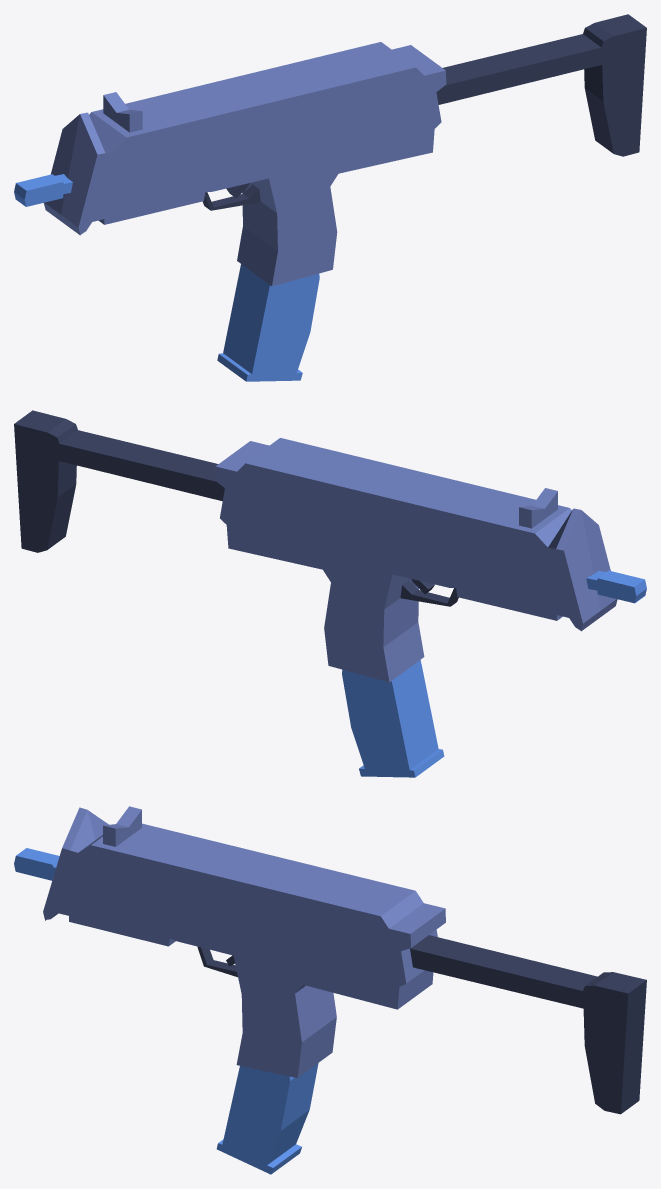
Rendered from fpsgun.fbx.
3 renders of one model, top to bottom at view 1: azimuth 30°, elevation 25°; view 2: azimuth 150°, elevation 25°; view 3: azimuth 330°, elevation 25°, orthographic.
Parts seen in each view (by area): view 1: GunBarrel; view 2: GunBarrel; view 3: GunBarrel.
Part boxes in pixels (x1,y1,x2,y2): GunBarrel: (14,14,646,381); GunBarrel: (14,410,646,777); GunBarrel: (14,806,646,1174).
Bounding box in the file's own units: 937 × 444 × 91.77.
